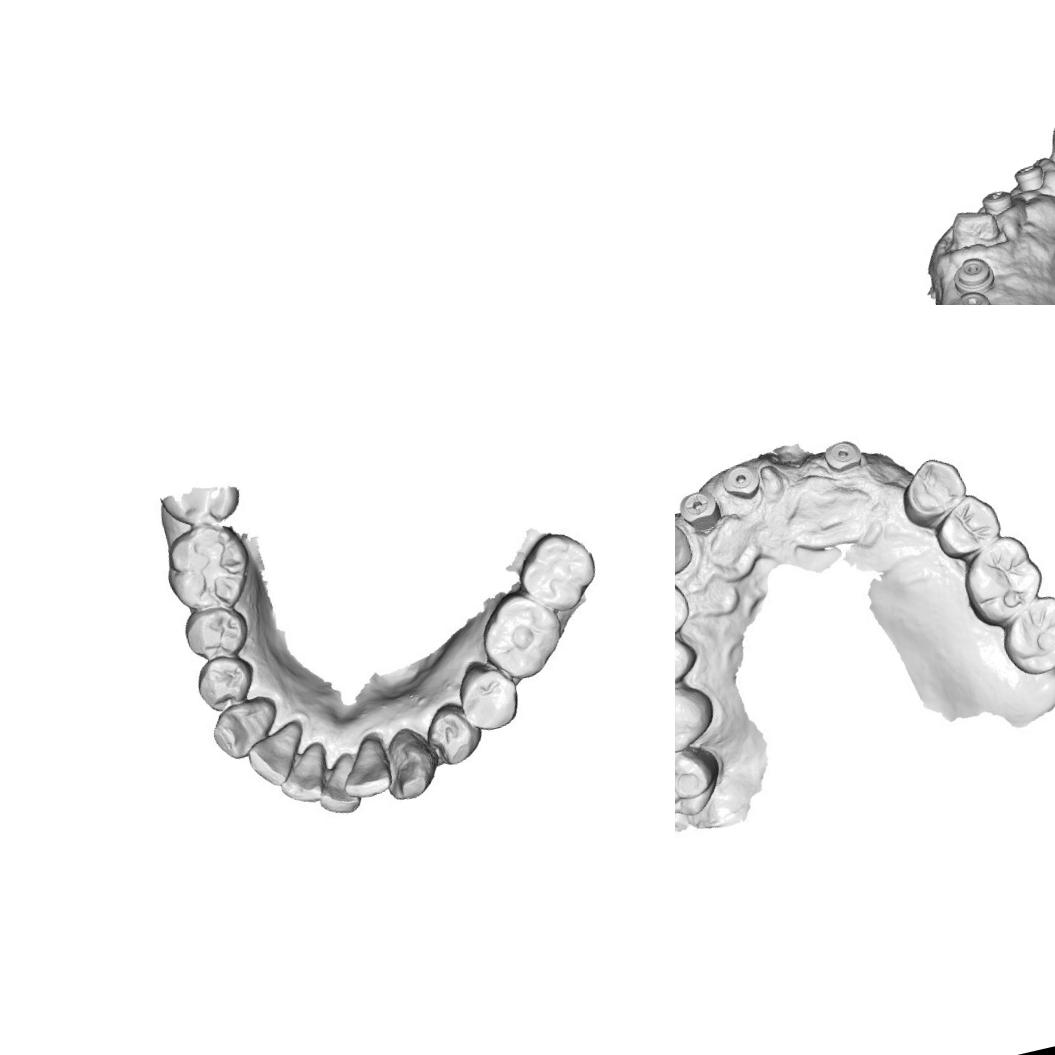canine: (204, 690, 288, 765), (376, 721, 442, 805), (675, 514, 697, 582)
crown: (1040, 118, 1055, 184)
implant: (946, 249, 1000, 300), (818, 432, 866, 478), (718, 458, 760, 501), (1008, 158, 1050, 200), (977, 186, 1017, 221), (943, 284, 1001, 305)
implant_plus: (675, 485, 720, 530)
incisor: (241, 720, 312, 791), (274, 734, 340, 810), (332, 729, 397, 804), (310, 746, 368, 819)
molar: (153, 516, 262, 620), (472, 587, 572, 686), (509, 522, 603, 619), (959, 534, 1048, 626), (1002, 591, 1055, 673), (675, 743, 724, 826), (675, 673, 716, 758)
premolar: (450, 654, 524, 738), (895, 452, 969, 520), (179, 600, 254, 666), (422, 699, 484, 773), (188, 650, 260, 712), (936, 489, 1001, 551), (675, 622, 699, 691), (675, 574, 689, 635)
